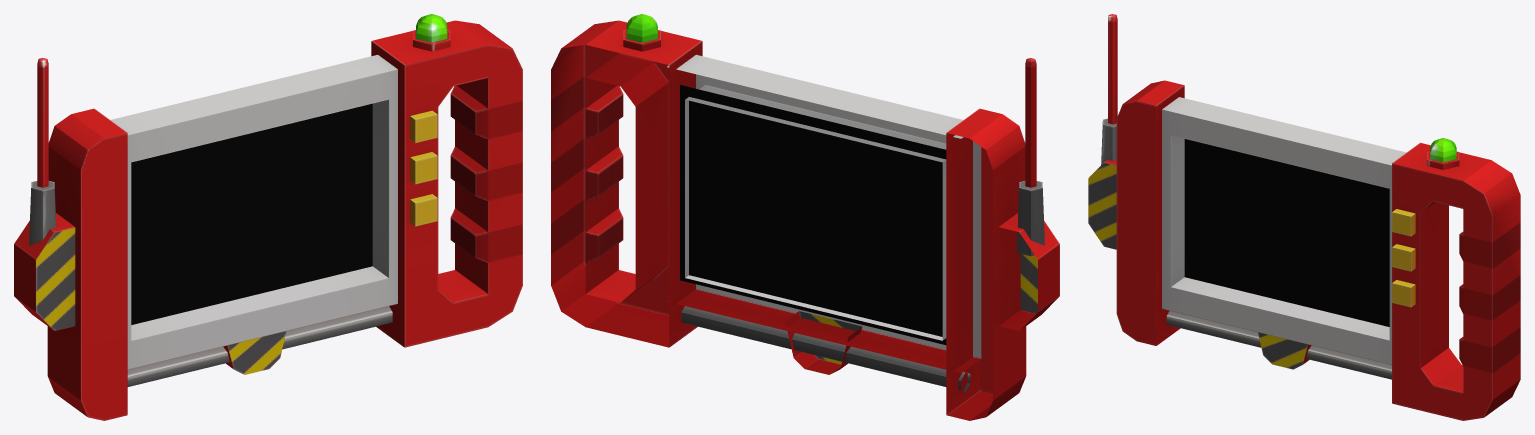
Rendered from scanner_04.fbx.
3 renders of one model, left to right at view 1: azimuth 30°, elevation 25°; view 2: azimuth 150°, elevation 25°; view 3: azimuth 330°, elevation 25°, orthographic. The views are drawn at different scales.
Parts seen in each view (by area): view 1: scanner_04, screen_04; view 2: scanner_04, screen_04; view 3: scanner_04, screen_04.
Part boxes in pixels (bbox=[...]): scanner_04: bbox=[14, 14, 522, 420]; screen_04: bbox=[131, 103, 372, 324]; scanner_04: bbox=[551, 14, 1059, 420]; screen_04: bbox=[680, 85, 946, 344]; scanner_04: bbox=[1088, 14, 1520, 420]; screen_04: bbox=[1184, 139, 1389, 326].
Size of the model in its own units: 30.26 by 21.74 by 4.2.
